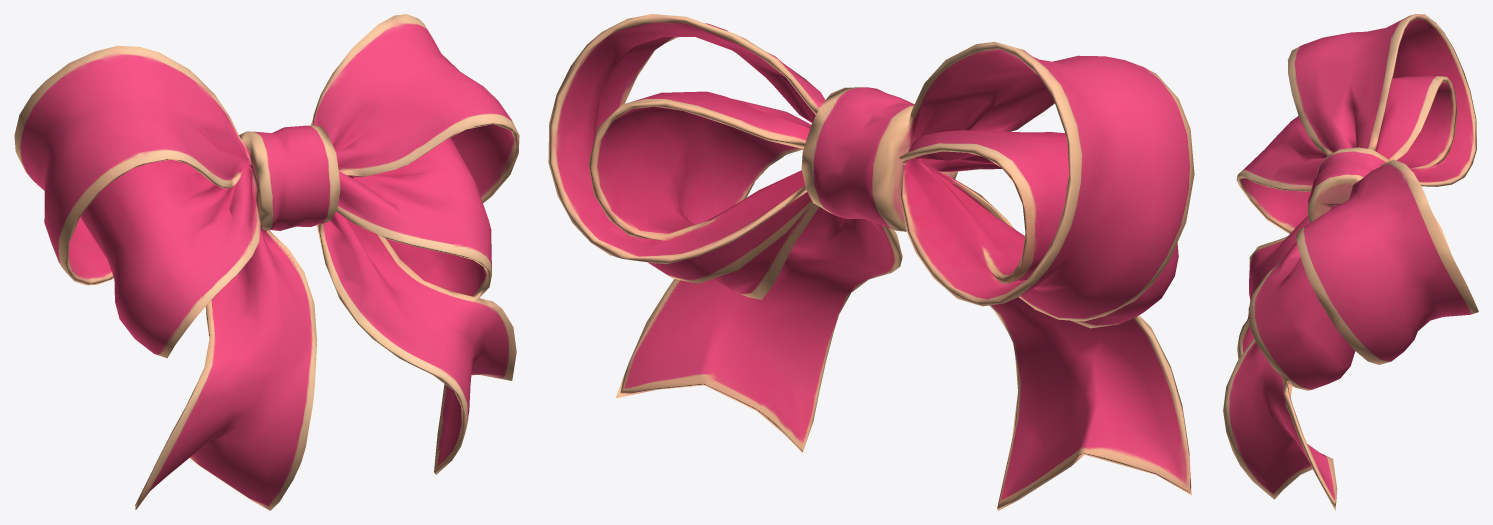
File: pink-bow-tripo.glb
3 renders of one model, left to right at view 1: azimuth 30°, elevation 25°; view 2: azimuth 150°, elevation 25°; view 3: azimuth 270°, elevation 25°, orthographic. The views are drawn at different scales.
Visible parts, largest first — view 1: tripo_node_123916fd-2b7b-40ba-b11b-f93a9df25f9b; view 2: tripo_node_123916fd-2b7b-40ba-b11b-f93a9df25f9b; view 3: tripo_node_123916fd-2b7b-40ba-b11b-f93a9df25f9b.
Boxes of the visible parts, x1,y1,x2,y2 form: tripo_node_123916fd-2b7b-40ba-b11b-f93a9df25f9b: (14,14,519,510); tripo_node_123916fd-2b7b-40ba-b11b-f93a9df25f9b: (548,14,1194,510); tripo_node_123916fd-2b7b-40ba-b11b-f93a9df25f9b: (1223,14,1478,510).
Bounding box in the file's own units: 0.9778 × 0.899 × 0.549.
1 material, 1 textured.
